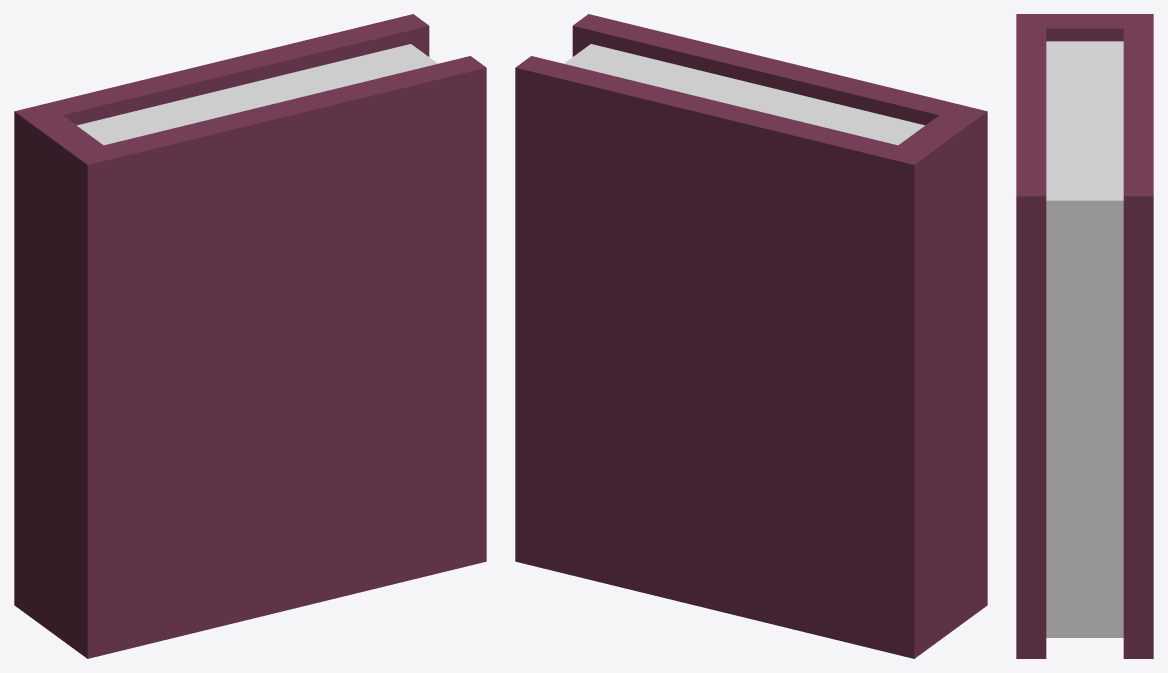
File: bookPink.fbx
3 views of the same model, side by side, from view 1: azimuth 30°, elevation 25°; view 2: azimuth 150°, elevation 25°; view 3: azimuth 270°, elevation 25° (orthographic). The views are drawn at different scales.
Visible parts, largest first — view 1: bookPink; view 2: bookPink; view 3: bookPink.
Part boxes in pixels (box(x1,y1,x2,y2)): bookPink: box(14, 14, 486, 658); bookPink: box(515, 14, 987, 658); bookPink: box(1016, 14, 1153, 658).
Size of the model in its own units: 59.98 by 70.94 by 19.09.
